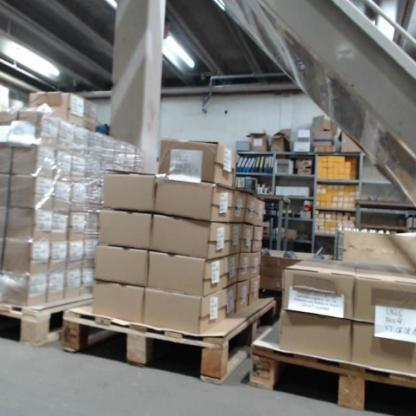pallets: (48, 288, 282, 379), (244, 332, 415, 412), (1, 279, 88, 362)
